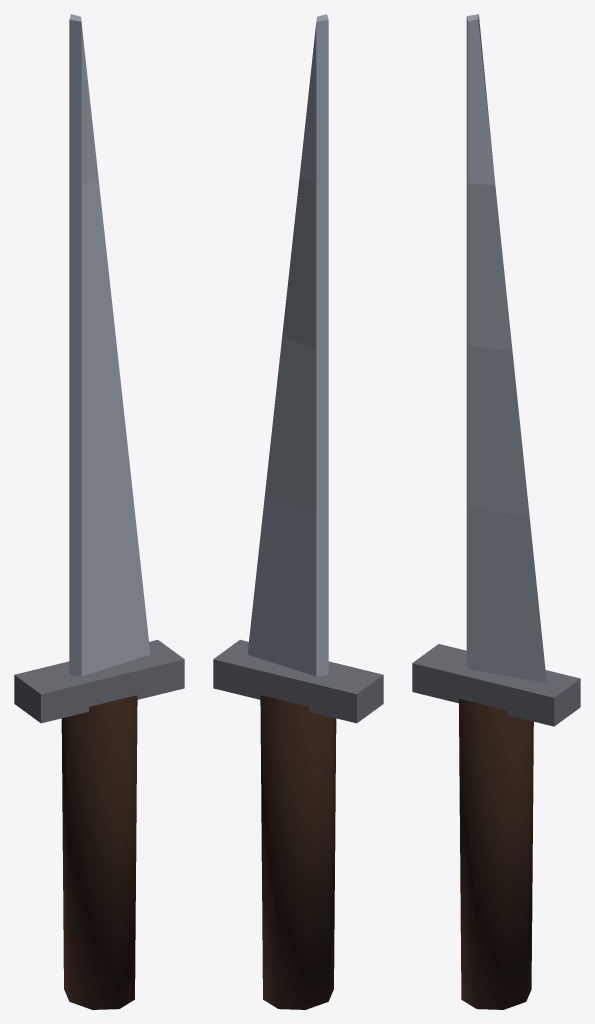
The model's file is knife.glb.
The picture shows the model from 3 angles, left to right: view 1: azimuth 30°, elevation 25°; view 2: azimuth 150°, elevation 25°; view 3: azimuth 330°, elevation 25°; orthographic projection.
Parts seen in each view (by area): view 1: Knife; view 2: Knife; view 3: Knife.
Part boxes in pixels (bbox=[...]): Knife: bbox=[14, 14, 184, 1009]; Knife: bbox=[213, 14, 383, 1009]; Knife: bbox=[412, 14, 580, 1009].
Size of the model in its own units: 0.062 by 0.405 by 0.032.
